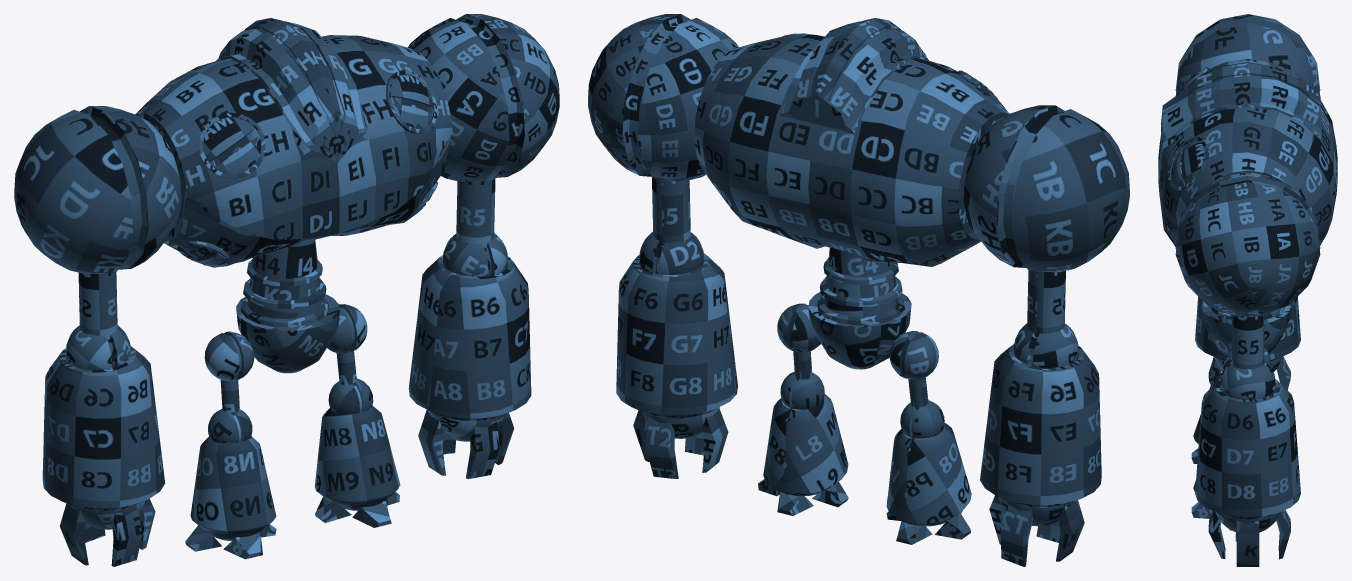
The model's file is Robot Chest UV Substance Setup.fbx.
The picture shows the model from 3 angles, left to right: view 1: azimuth 30°, elevation 25°; view 2: azimuth 150°, elevation 25°; view 3: azimuth 270°, elevation 25°; orthographic projection. The views are drawn at different scales.
Visible parts, largest first — view 1: L_Shoulder (×2), LeftHalf1_Upper_Body_Upper_Body, L_Forearm (×2), L_Calf (×2), Head (×2), Lower_Body, L_Bicep (×2), L_Elbow (×2), Screw (×2), Pelvis, L_Hip (×2), HandClaw_Front (×2) (+6 smaller); view 2: LeftHalf1_Upper_Body_Upper_Body, L_Shoulder (×2), L_Forearm (×2), L_Calf (×2), Head (×2), Lower_Body, L_Bicep (×2), L_Elbow (×2), Pelvis, L_Hip (×2), HandClaw_Back (×2), L_Knee (×2) (+3 smaller); view 3: L_Shoulder (×2), L_Forearm (×2), LeftHalf1_Upper_Body_Upper_Body, Head, L_Bicep, Pelvis, L_Elbow, HandClaw_L, Screw, HandClaw_Back (×2), Ring, L_Wrist (+3 smaller).
Part boxes in pixels (x1,y1,x2,y2): L_Shoulder (×2): (14,14,559,273); LeftHalf1_Upper_Body_Upper_Body: (135,35,452,267); L_Forearm (×2): (42,255,531,511); L_Calf (×2): (190,405,400,534); Head (×2): (216,18,369,163); Lower_Body: (240,240,328,327); L_Bicep (×2): (78,178,495,339); L_Elbow (×2): (66,233,507,370); Screw (×2): (203,74,433,174); Pelvis: (236,294,339,373); L_Hip (×2): (204,304,367,380); HandClaw_Front (×2): (111,422,499,566); LeftHalf1_Upper_Body_Upper_Body: (694,35,1009,266); L_Shoulder (×2): (588,14,1129,272); L_Forearm (×2): (616,253,1101,508); L_Calf (×2): (763,394,971,525); Head (×2): (780,18,928,133); Lower_Body: (817,247,904,325); L_Bicep (×2): (652,177,1065,337); L_Elbow (×2): (639,232,1078,367); Pelvis: (808,292,911,369); L_Hip (×2): (777,303,938,379); HandClaw_Back (×2): (645,417,1033,566); L_Knee (×2): (780,371,944,438); L_Shoulder (×2): (1175,14,1320,316); L_Forearm (×2): (1195,296,1300,519); LeftHalf1_Upper_Body_Upper_Body: (1158,59,1337,246); Head: (1161,63,1320,150); L_Bicep: (1231,315,1264,369); Pelvis: (1201,301,1290,355); L_Elbow: (1220,361,1275,399); HandClaw_L: (1236,520,1259,566); Screw: (1171,141,1204,186); HandClaw_Back (×2): (1276,356,1290,559); Ring: (1167,136,1209,190); L_Wrist: (1215,512,1279,532).
Size of the model in its own units: 4.36 by 3.94 by 1.5.
1 material, 1 textured.
